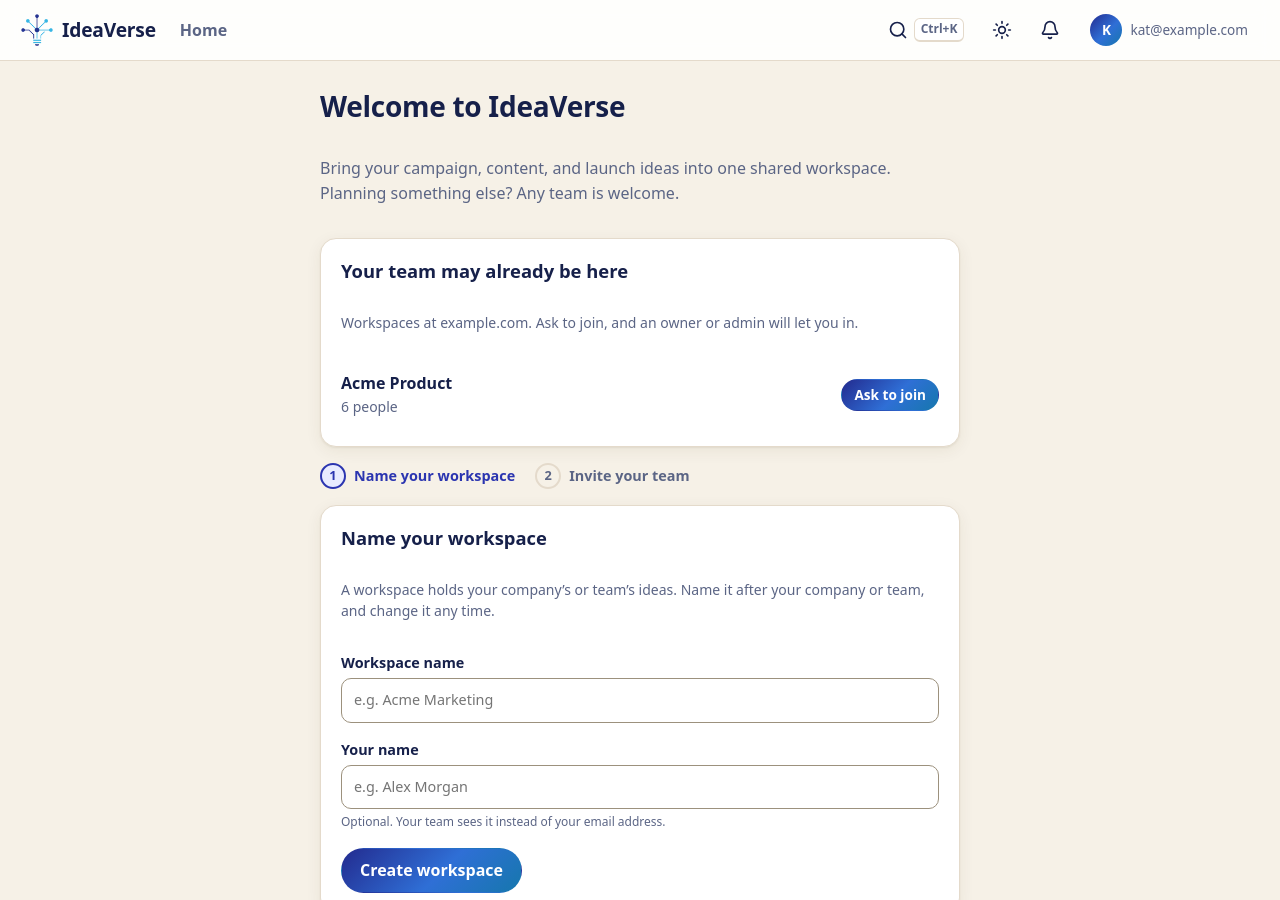
Test case: Finding the team by company domain › lets someone without a workspace ask to join one at their company, and withdraw
expect the text "Workspaces at example.com. Ask to join, and an owner or admin will let you in." is shown: met, box [341,312,939,333]
Click the button with aria-label "Ask to join Acme Product" at (890, 394), box [841,378,939,410]
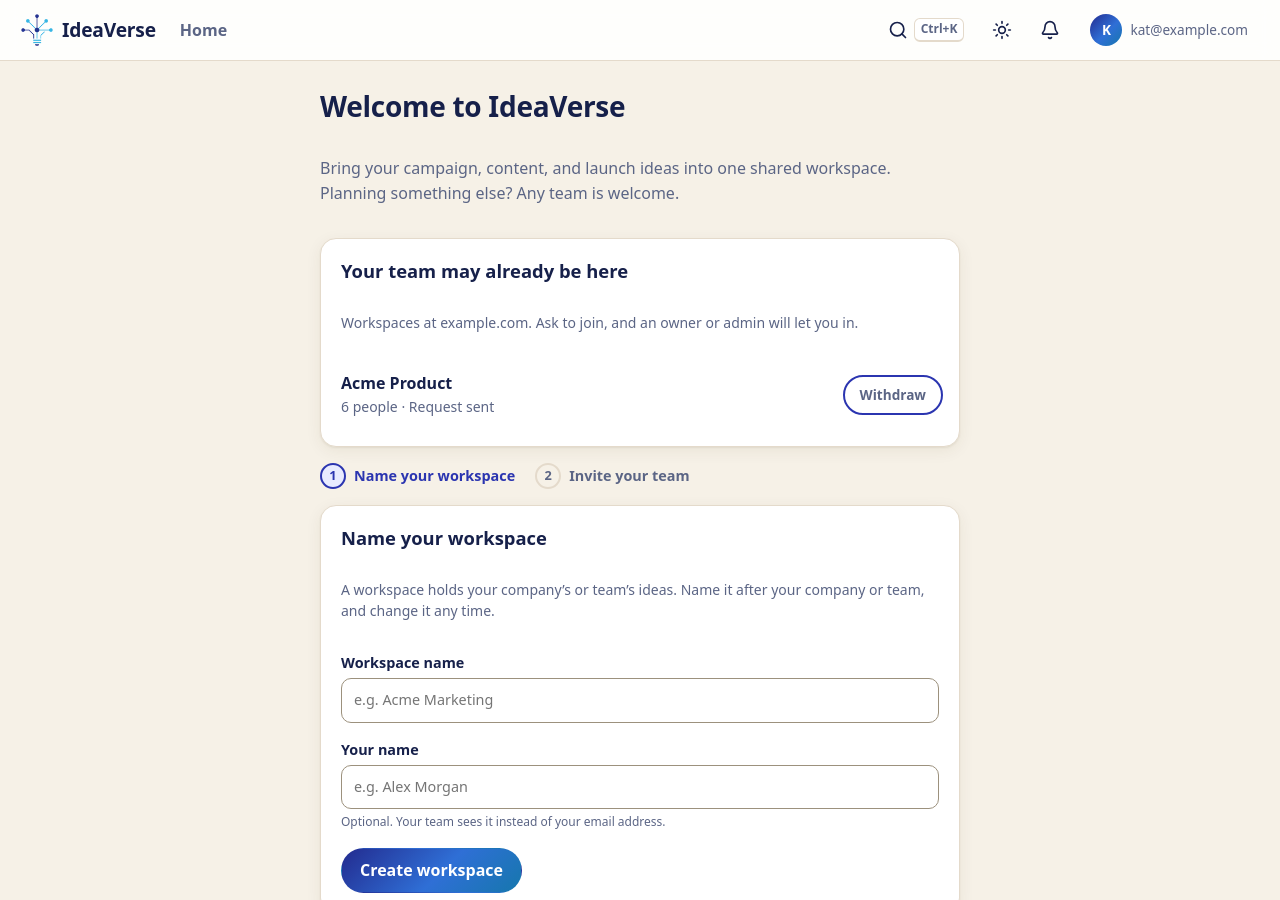
expect the text "6 people · Request sent" is shown: met, box [341,396,494,418]
Click the button with aria-label "Withdraw request to join Acme Product" at (893, 394), box [846,378,939,410]
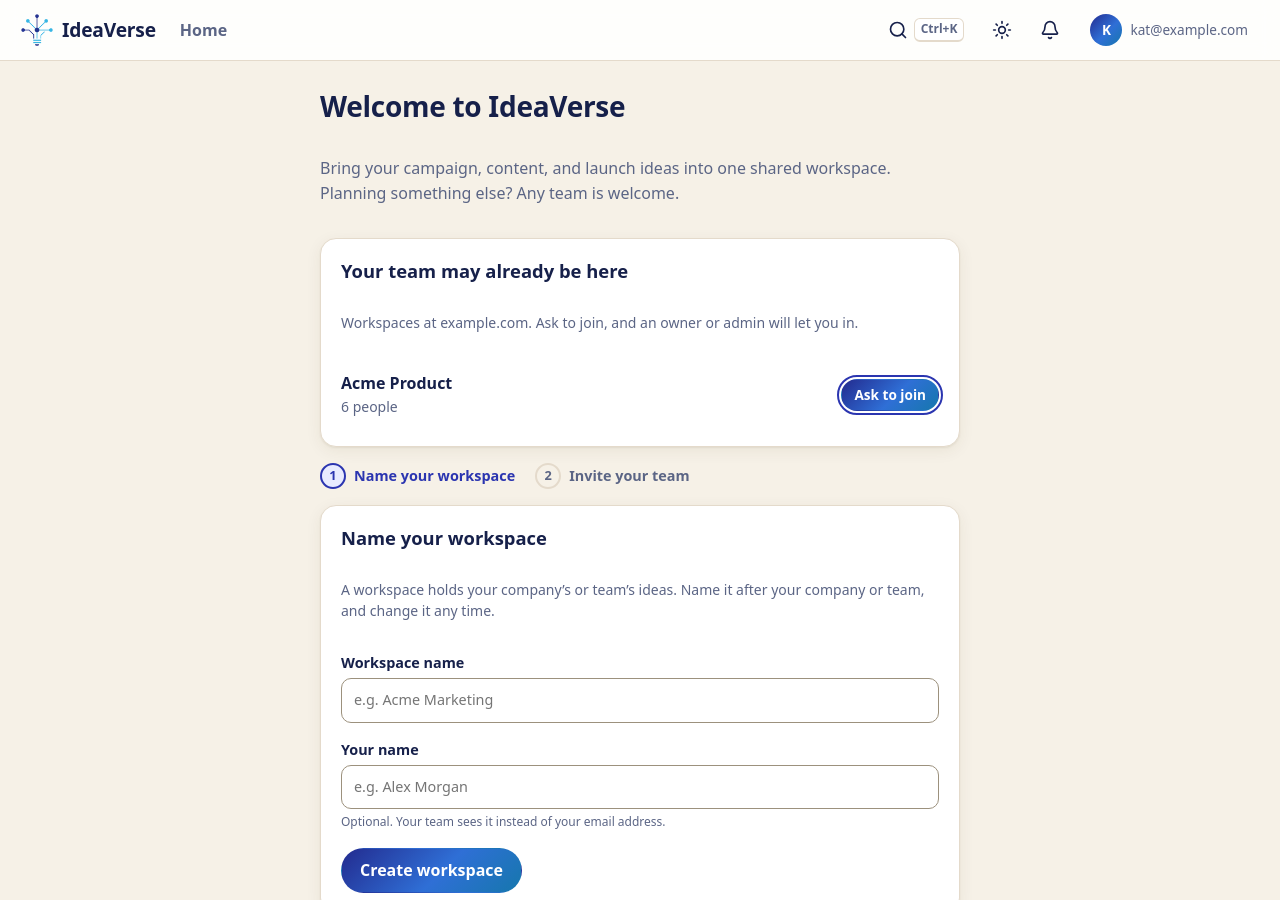
expect the button with aria-label "Ask to join Acme Product" is shown: met, box [841,378,939,410]
